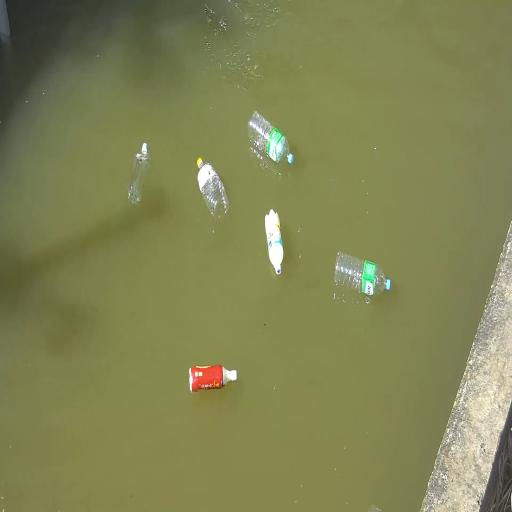plastic: (248, 111, 293, 165), (335, 252, 390, 296), (196, 157, 229, 220), (128, 143, 150, 205), (189, 365, 237, 392), (265, 209, 283, 275), (368, 505, 381, 511)
